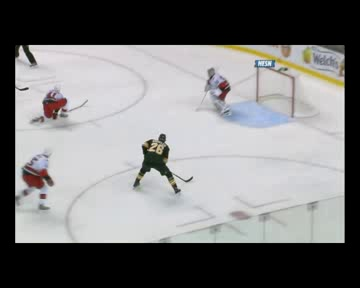normal: (123, 123, 193, 201)
